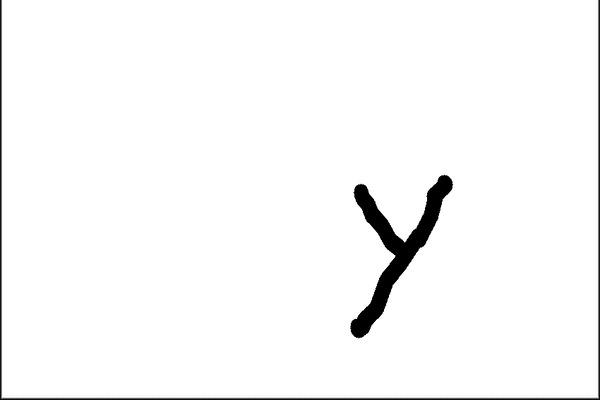Y: (313, 168, 488, 342)
